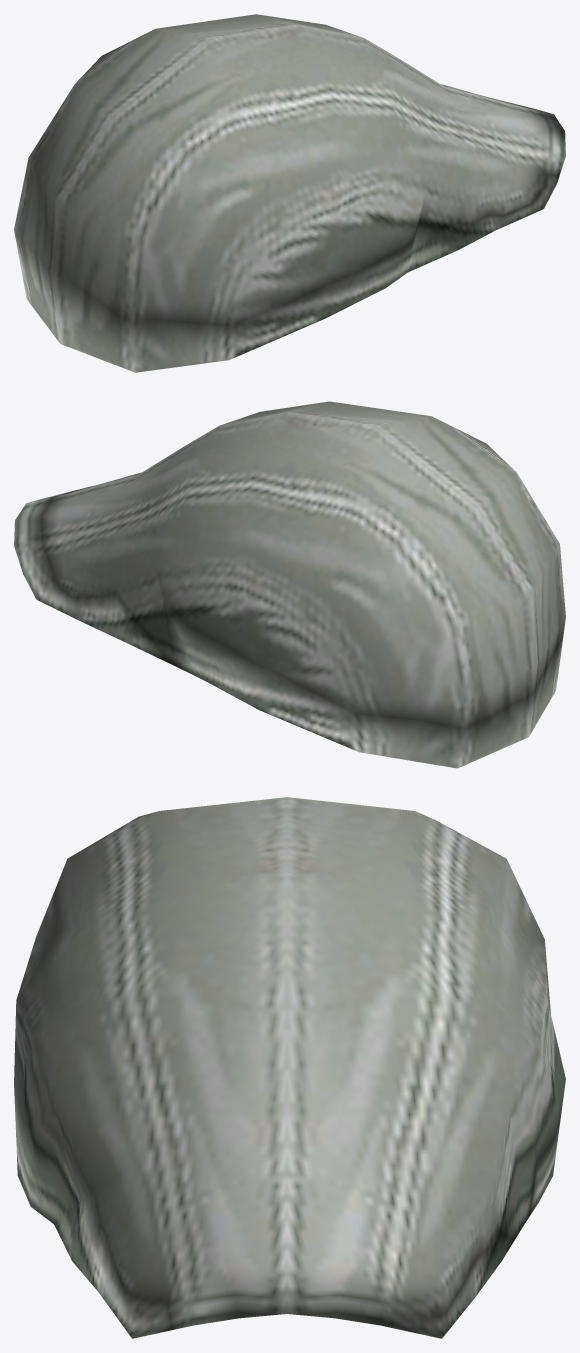
The model's file is hat_0400032.FBX.
The picture shows the model from 3 angles, top to bottom: view 1: azimuth 30°, elevation 25°; view 2: azimuth 150°, elevation 25°; view 3: azimuth 270°, elevation 25°; orthographic projection. The views are drawn at different scales.
Parts seen in each view (by area): view 1: hat_0400032; view 2: hat_0400032; view 3: hat_0400032.
Part boxes in pixels (<box>): hat_0400032: <box>14,14,565,372</box>; hat_0400032: <box>14,401,565,768</box>; hat_0400032: <box>14,797,565,1338</box>.
Size of the model in its own units: 37.83 by 19.4 by 22.83.
